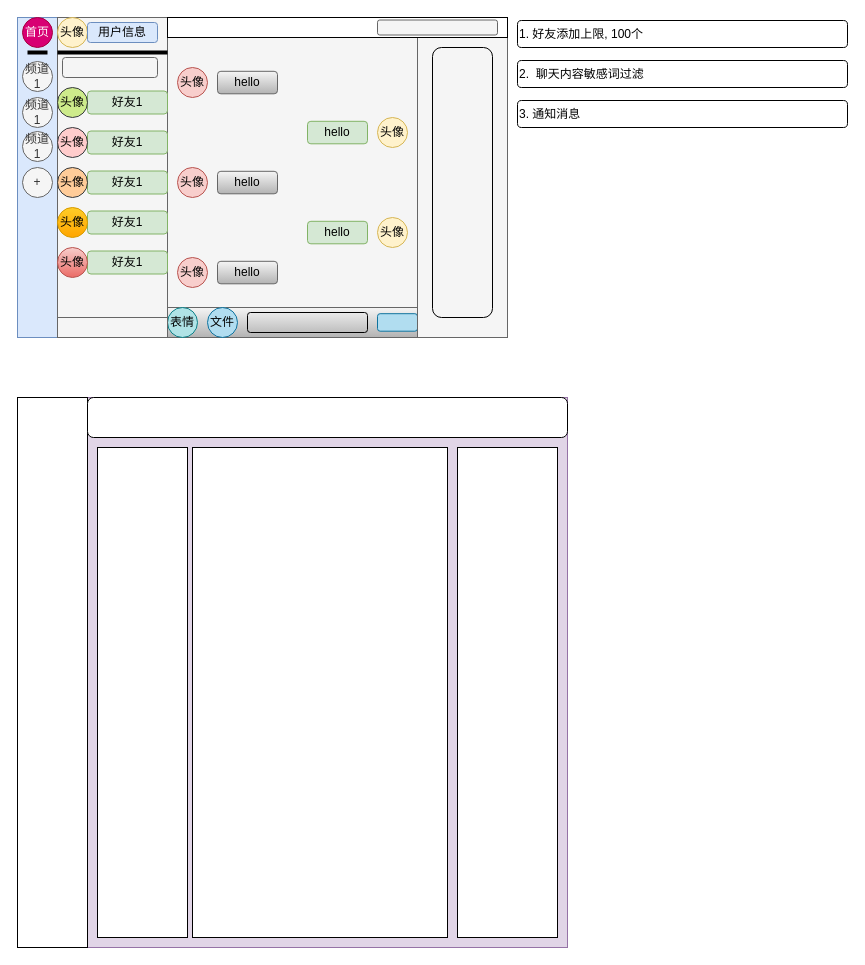
The diagram is 865 pixels wide and 965 high, and some of its shapes have lost their labels. The centre of each missing label's shape, as x and y in pixels:
内容: the point at 307,322
发送: the point at 397,322
在线|待验证|黑名单: the point at 112,327
好友信息: the point at 462,182
搜索好友: the point at 110,67
添加好友|通知|帮助: the point at 437,27
